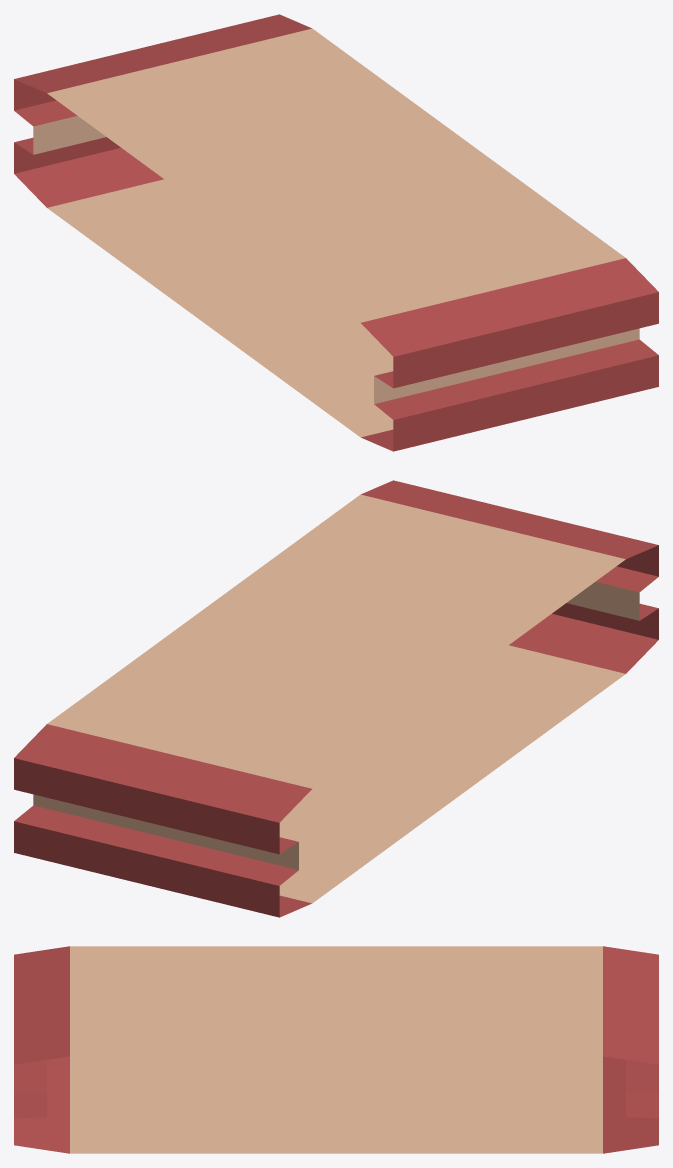
Rendered from SquarePlatformMiddle.fbx.
The picture shows the model from 3 angles, top to bottom: view 1: azimuth 30°, elevation 25°; view 2: azimuth 150°, elevation 25°; view 3: azimuth 270°, elevation 25°; orthographic projection. The views are drawn at different scales.
Parts seen in each view (by area): view 1: Cube; view 2: Cube; view 3: Cube.
Part boxes in pixels (x1,y1,x2,y2): Cube: (14, 14, 658, 451); Cube: (14, 480, 658, 917); Cube: (14, 946, 658, 1153).
Bounding box in the file's own units: 242 × 100 × 600.
